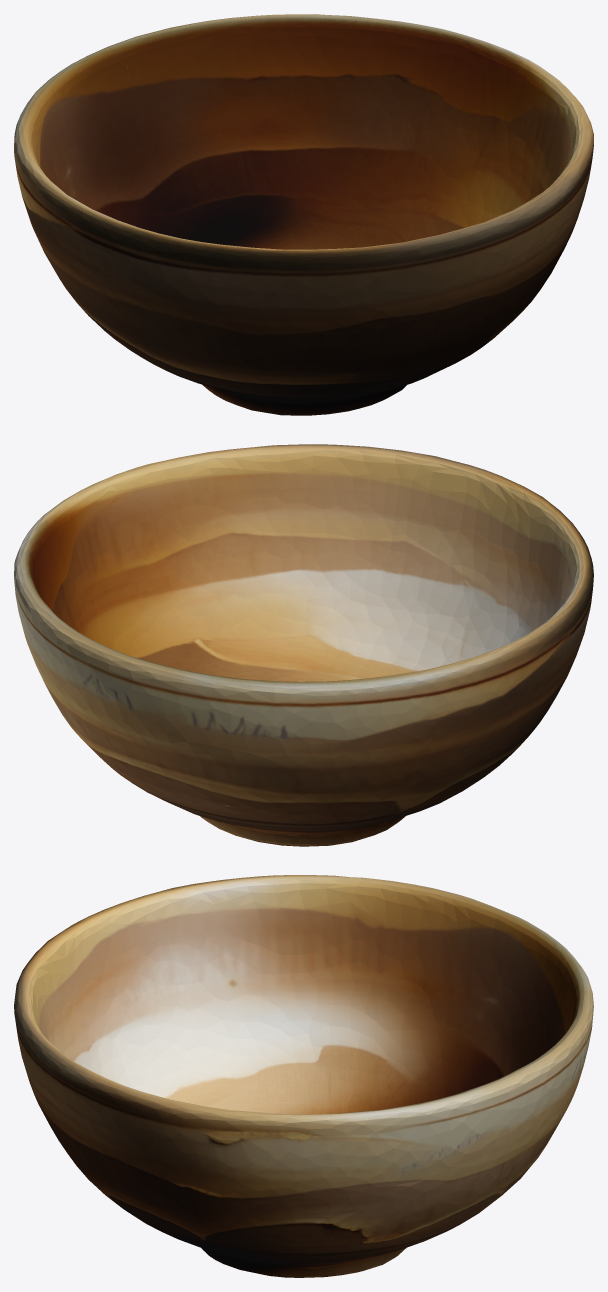
Rendered from hand-thrown-clay-bowl-vintage.jpeg.glb.
3 renders of one model, top to bottom at view 1: azimuth 30°, elevation 25°; view 2: azimuth 150°, elevation 25°; view 3: azimuth 270°, elevation 25°, orthographic.
Visible parts, largest first — view 1: world; view 2: world; view 3: world.
Boxes of the visible parts, x1=… form: world: x1=14, y1=14, x2=593, y2=415; world: x1=14, y1=444, x2=593, y2=846; world: x1=14, y1=875, x2=593, y2=1277.
Size of the model in its own units: 0.9995 by 0.4576 by 1.
1 material, 1 textured.
